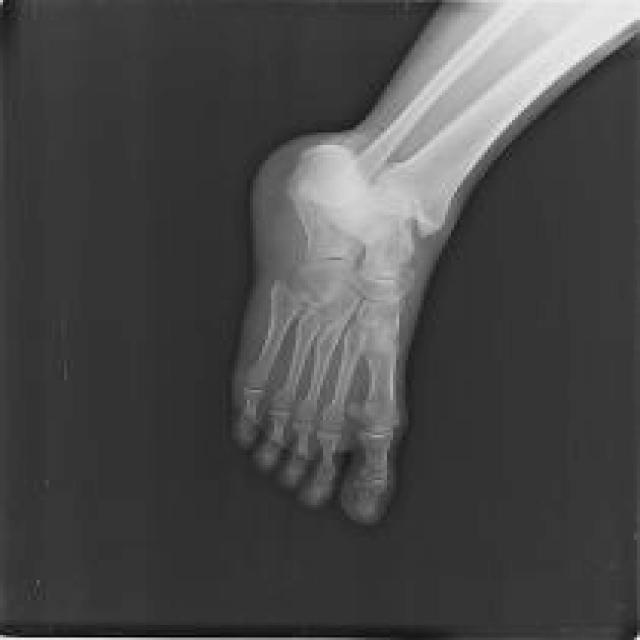normal: (229, 0, 632, 528)
